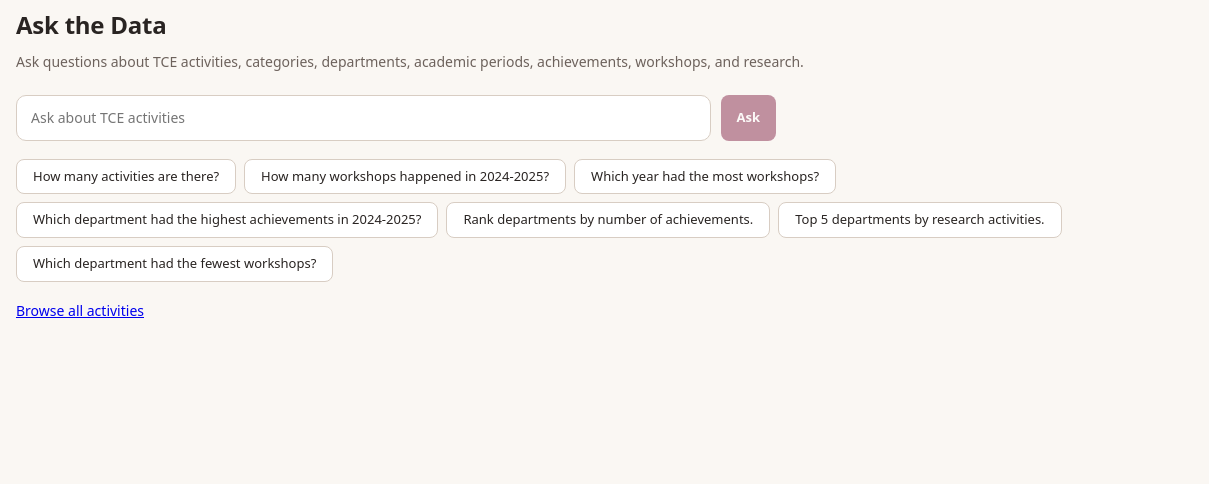
Ask the Data › displays unsupported question message
The width and height of the screenshot is (1209, 484).
Click the button "Top 5 departments by research activities." at [920, 220], box [778,202,1062,238]
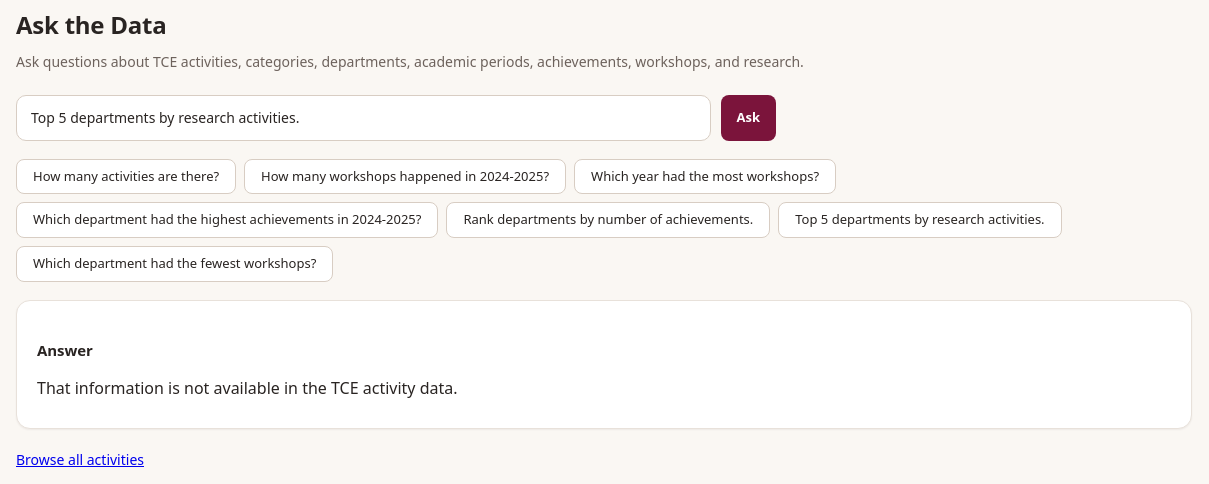
Expected: the text "That information is not available in the TCE activity data." is shown, [37,377,458,399]
